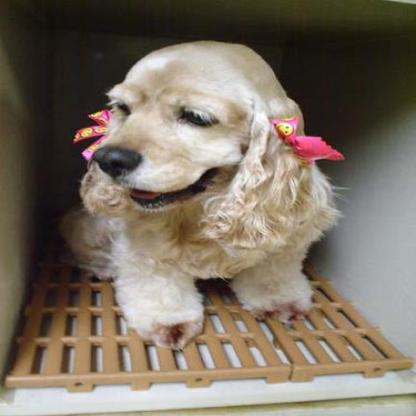cocker_spaniel: (47, 39, 348, 350)
